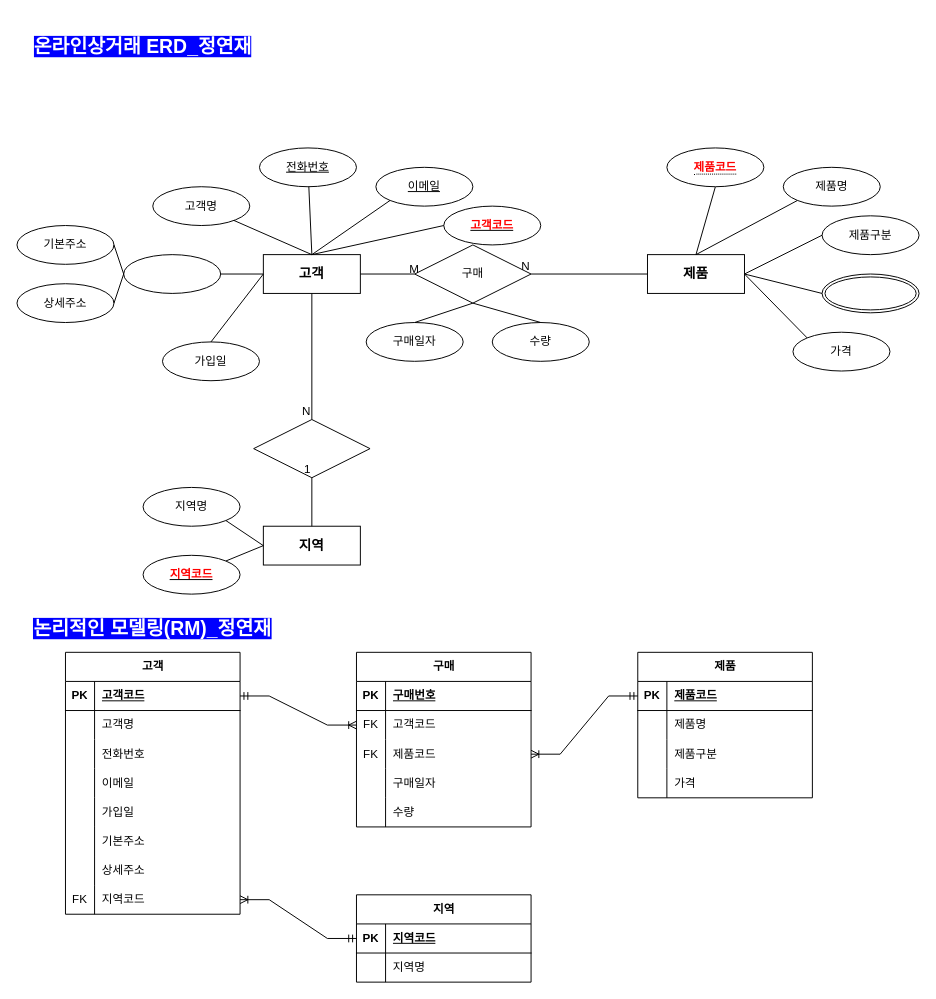
The diagram is 936 pixels wide and 999 high, and some of its shapes have lost their labels. The box of each missing label's shape, as (x1, y1, x2, y2) in pixels:
관리: (253, 419, 370, 478)
제품색상: (821, 273, 919, 313)
주소: (123, 254, 221, 293)
